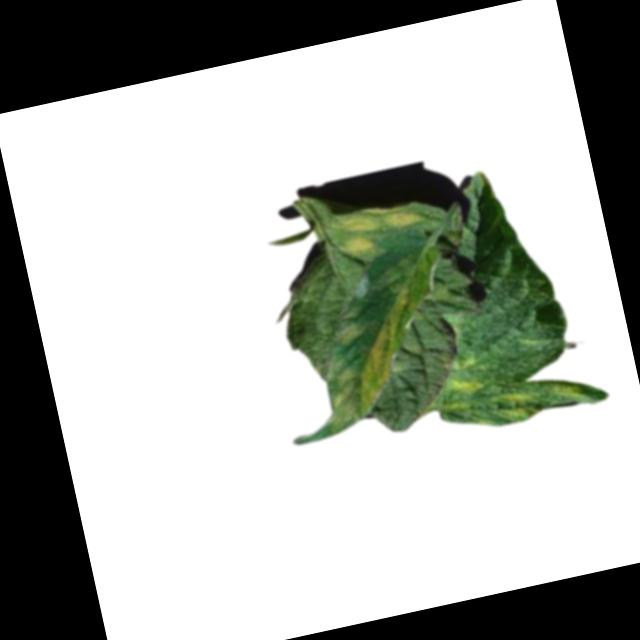Leaf_Mold: (308, 318, 417, 430), (331, 195, 429, 265), (490, 383, 542, 427), (437, 354, 485, 399)
